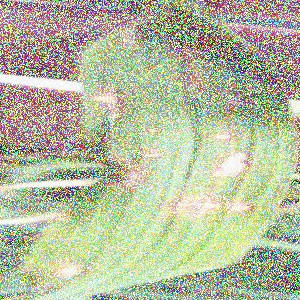Brown_Spot: (96, 152, 165, 201), (156, 186, 225, 229), (25, 249, 86, 292), (158, 65, 209, 114), (209, 143, 259, 188), (90, 78, 126, 128), (225, 182, 268, 221), (37, 199, 84, 233), (139, 140, 180, 173), (133, 110, 176, 141), (203, 122, 250, 147), (167, 36, 200, 71), (225, 87, 259, 117)
